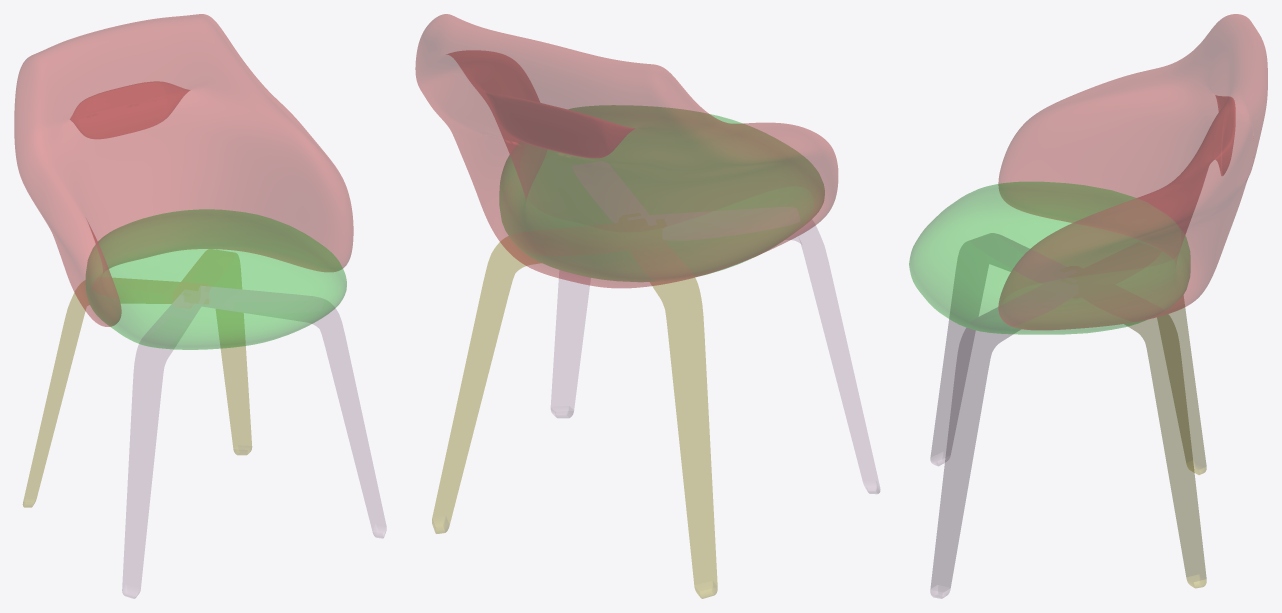
The model's file is alder-standard.glb.
The picture shows the model from 3 angles, left to right: view 1: azimuth 30°, elevation 25°; view 2: azimuth 150°, elevation 25°; view 3: azimuth 270°, elevation 25°; orthographic projection. The views are drawn at different scales.
Parts seen in each view (by area): view 1: Plane009, Box001, Line009, Line010; view 2: Plane009, Box001, Line010, Line009; view 3: Plane009, Box001, Line009, Line010.
Boxes of the visible parts, bbox=[...] form: Plane009: bbox=[14, 14, 353, 326]; Box001: bbox=[86, 209, 346, 349]; Line009: bbox=[122, 286, 386, 598]; Line010: bbox=[23, 249, 251, 507]; Plane009: bbox=[415, 14, 837, 287]; Box001: bbox=[499, 105, 824, 281]; Line010: bbox=[432, 236, 717, 598]; Line009: bbox=[551, 220, 880, 493]; Plane009: bbox=[998, 14, 1267, 329]; Box001: bbox=[909, 182, 1190, 334]; Line009: bbox=[930, 233, 1029, 598]; Line010: bbox=[1125, 296, 1206, 588].
Bounding box in the file's own units: 51.84 × 77.34 × 53.01.
